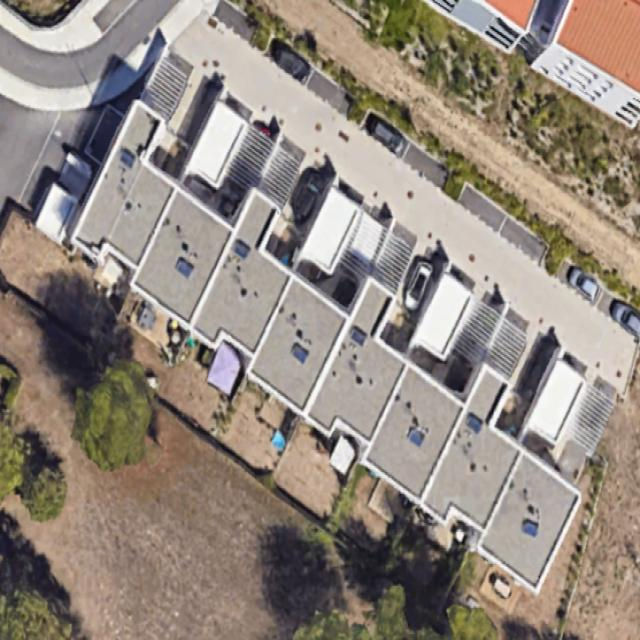maison: (299, 275, 434, 452), (185, 186, 314, 363), (417, 364, 546, 538), (70, 105, 197, 269), (242, 281, 349, 408), (359, 370, 464, 497), (476, 457, 581, 584), (129, 194, 233, 320)
